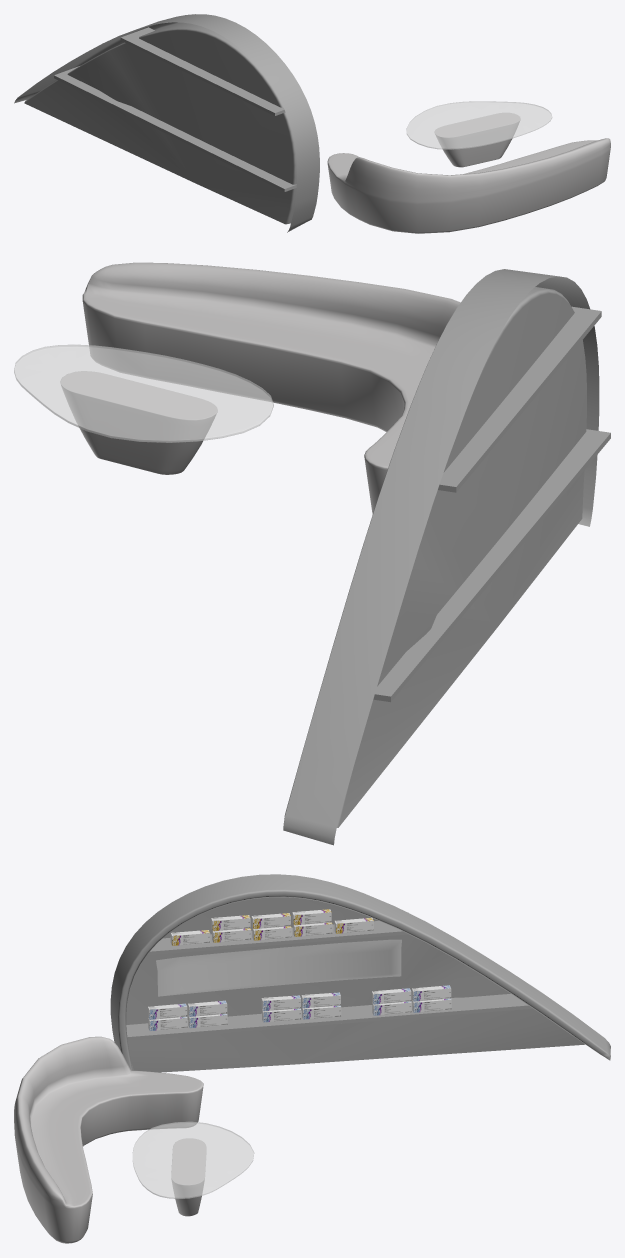
The model's file is FBX_Sala.fbx.
3 views of the same model, one above another, from view 1: azimuth 30°, elevation 25°; view 2: azimuth 150°, elevation 25°; view 3: azimuth 270°, elevation 25° (orthographic). The views are drawn at different scales.
Visible parts, largest first — view 1: Forma, Sofa, CoffeTableGlass, repisas, CoffeTableBottom; view 2: Forma, Sofa, CoffeTableGlass, repisas, CoffeTableBottom; view 3: Forma, Sofa, polySurface4, Soliqua1, CoffeTableGlass, repisas, CoffeTableBottom.
Boxes of the visible parts, box(x1,y1,x2,y2) form: Forma: box(14, 14, 319, 232); Sofa: box(327, 138, 610, 233); CoffeTableGlass: box(406, 101, 552, 149); repisas: box(54, 27, 296, 191); CoffeTableBottom: box(435, 113, 520, 167); Forma: box(283, 269, 599, 845); Sofa: box(82, 262, 460, 513); CoffeTableGlass: box(14, 344, 273, 442); repisas: box(373, 306, 610, 702); CoffeTableBottom: box(60, 371, 217, 474); Forma: box(110, 874, 610, 1072); Sofa: box(14, 1036, 203, 1243); polySurface4: box(148, 909, 451, 1031); Soliqua1: box(156, 939, 401, 996); CoffeTableGlass: box(132, 1121, 254, 1198); repisas: box(126, 912, 532, 1040); CoffeTableBottom: box(171, 1138, 206, 1216).
Bounding box in the file's own units: 5.46 × 2.44 × 6.6.
